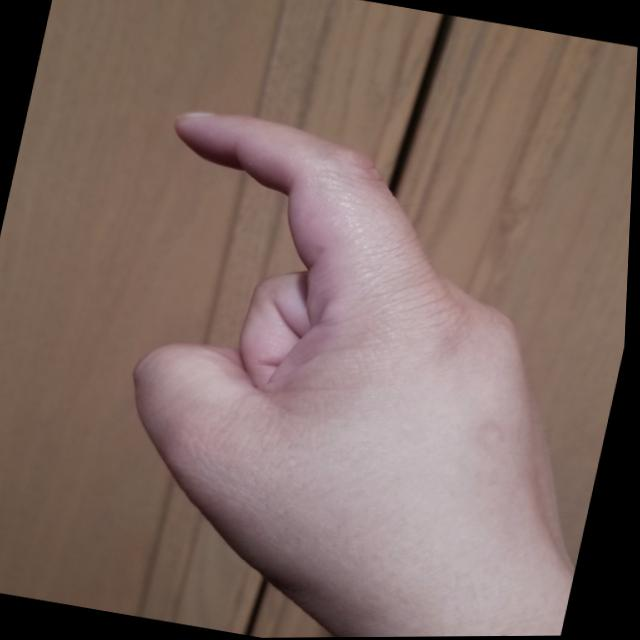X: (63, 94, 636, 639)
